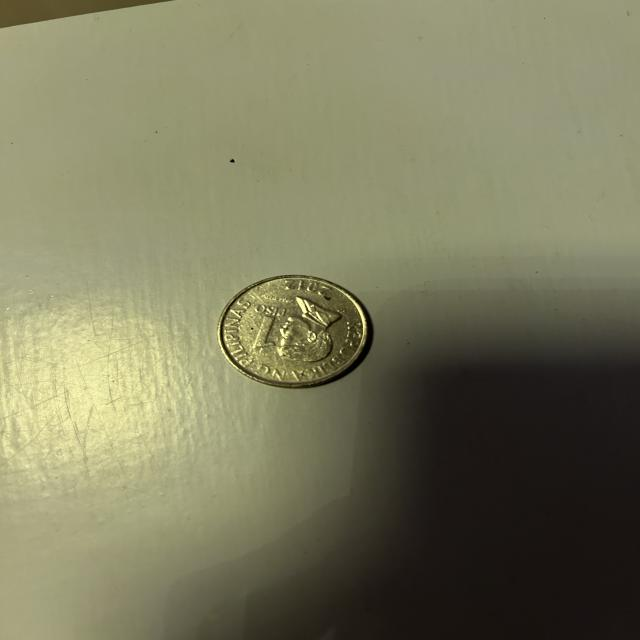1_Old_Front: (248, 299, 280, 350)
